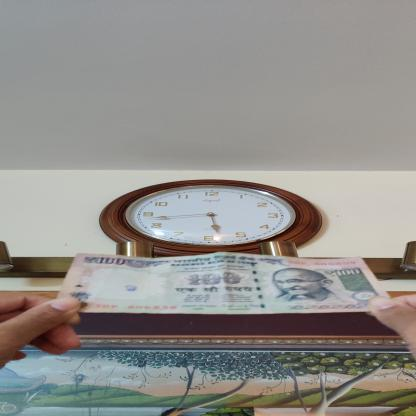Old100Front: (56, 252, 392, 314)
